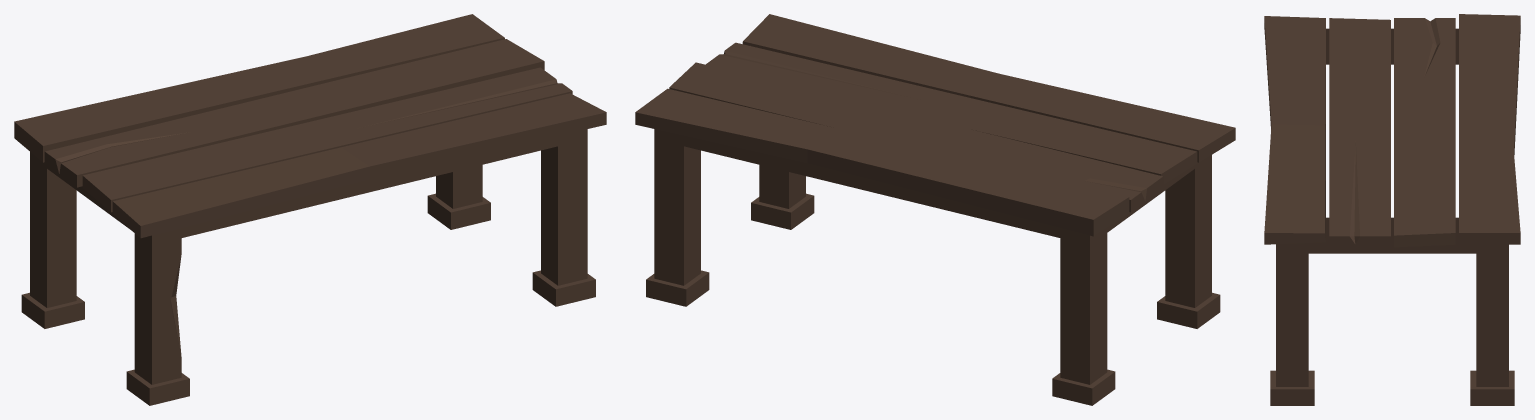
Rendered from table.fbx.
3 views of the same model, side by side, from view 1: azimuth 30°, elevation 25°; view 2: azimuth 150°, elevation 25°; view 3: azimuth 270°, elevation 25° (orthographic). The views are drawn at different scales.
Visible parts, largest first — view 1: table; view 2: table; view 3: table.
Part boxes in pixels (bbox=[...]): table: bbox=[14, 14, 606, 405]; table: bbox=[635, 14, 1235, 405]; table: bbox=[1264, 14, 1520, 405].
Bounding box in the file's own units: 282 × 108 × 139.
